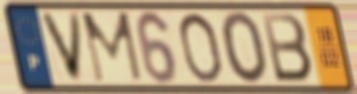6: (134, 8, 179, 87)
B: (259, 11, 315, 85)
M: (79, 9, 146, 85)
O: (219, 9, 271, 87), (176, 11, 225, 85)
V: (37, 10, 85, 85)
